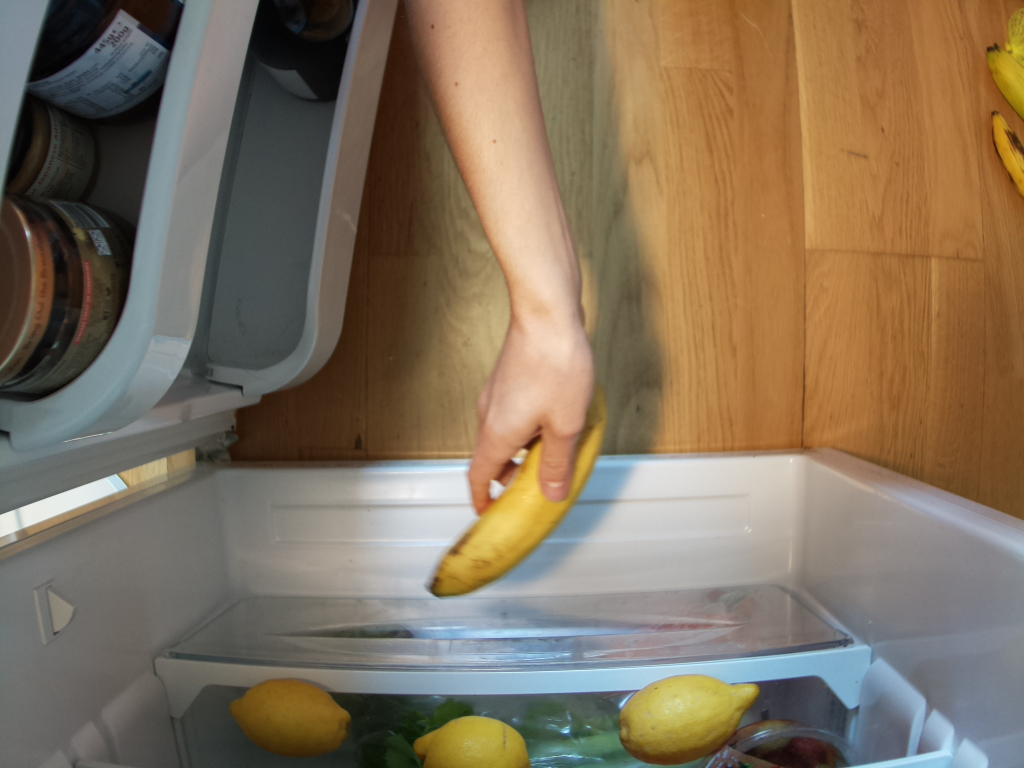banana: (431, 387, 610, 605)
